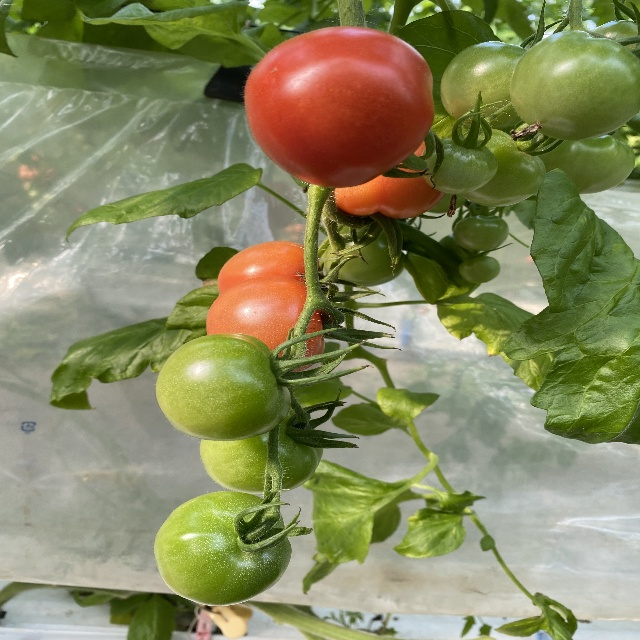l_fully_ripened: (243, 26, 435, 189), (206, 276, 325, 374), (334, 139, 446, 218), (217, 240, 325, 302)
l_green: (154, 490, 293, 607), (155, 332, 293, 442), (510, 30, 640, 142), (201, 408, 325, 495), (442, 41, 527, 131), (459, 129, 546, 208), (535, 134, 635, 194), (420, 138, 500, 195), (325, 230, 405, 287), (452, 215, 510, 251), (458, 256, 501, 283)
